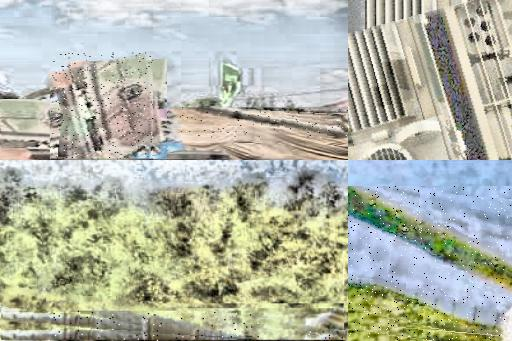tanks: (349, 1, 512, 161), (349, 188, 512, 298), (52, 54, 154, 160), (49, 312, 260, 341), (181, 108, 348, 139), (309, 333, 346, 341)
